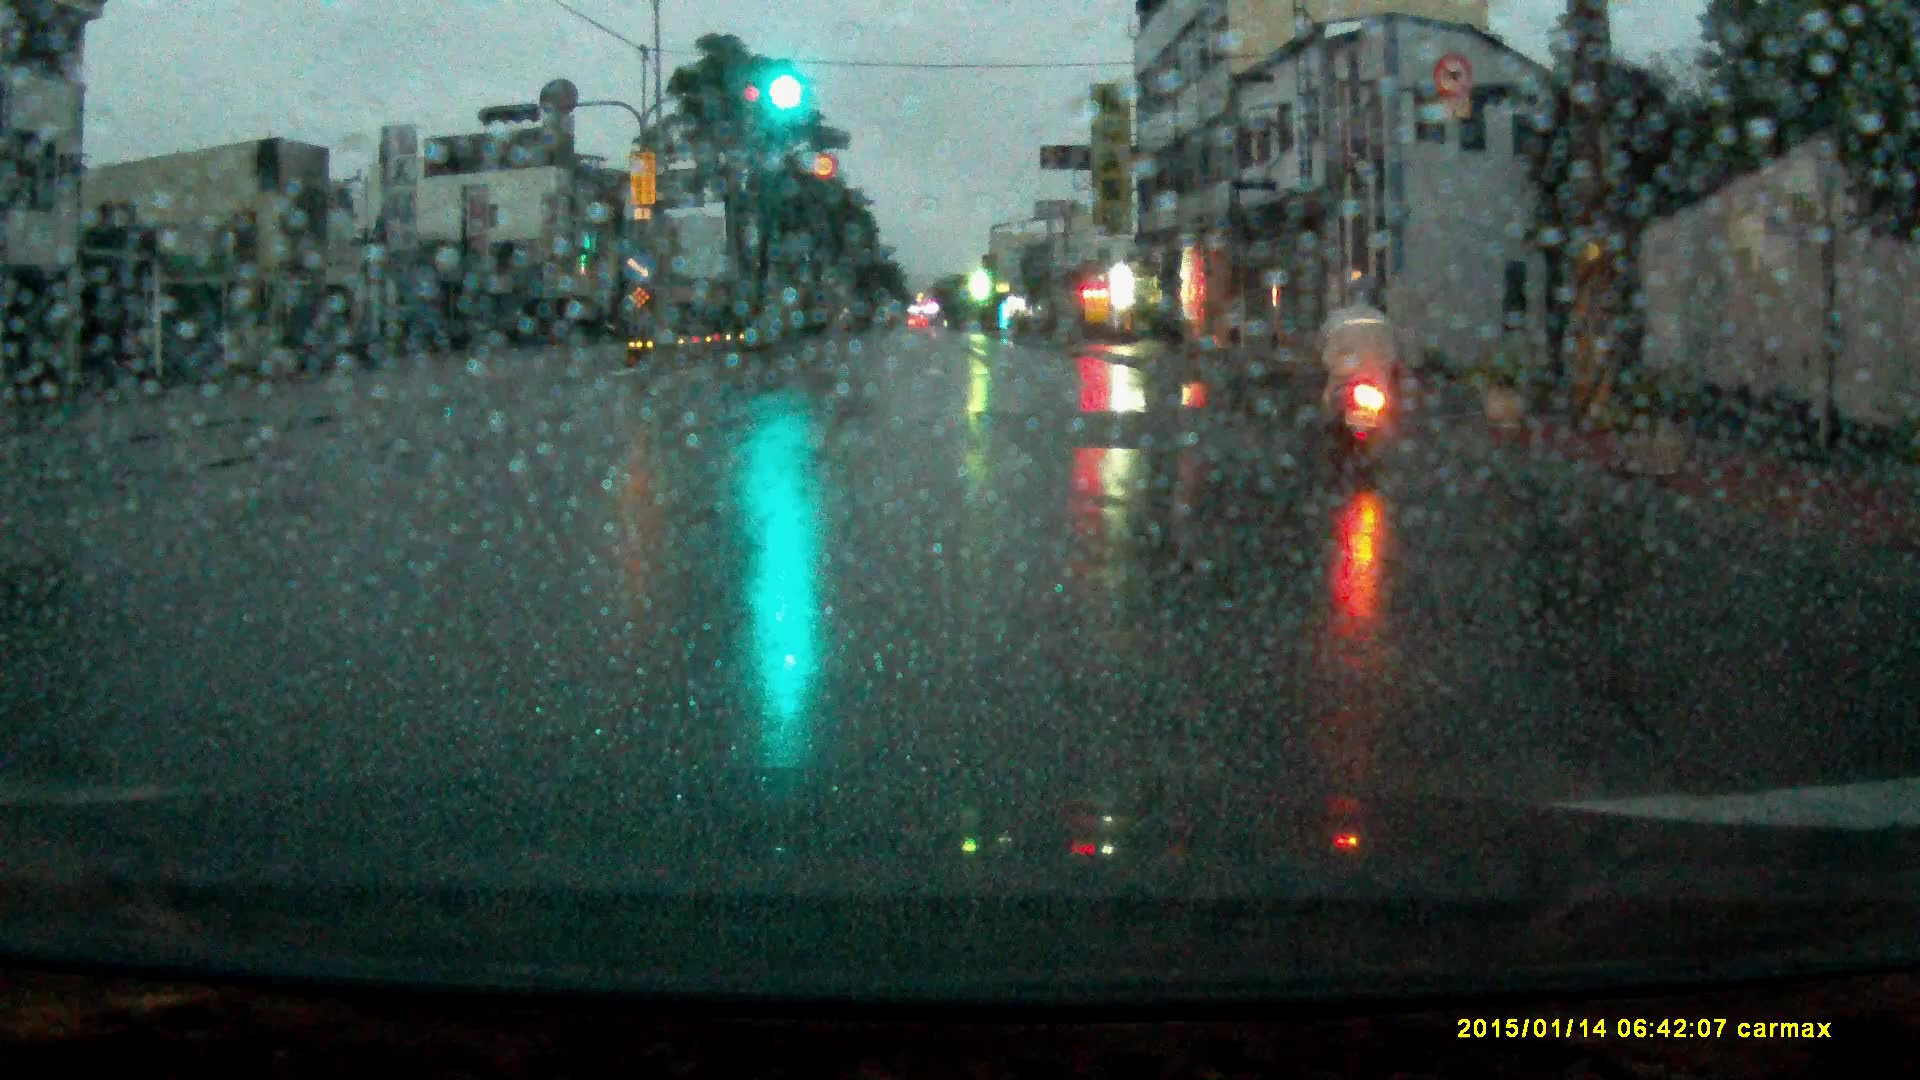rider: (1312, 270, 1395, 490)
